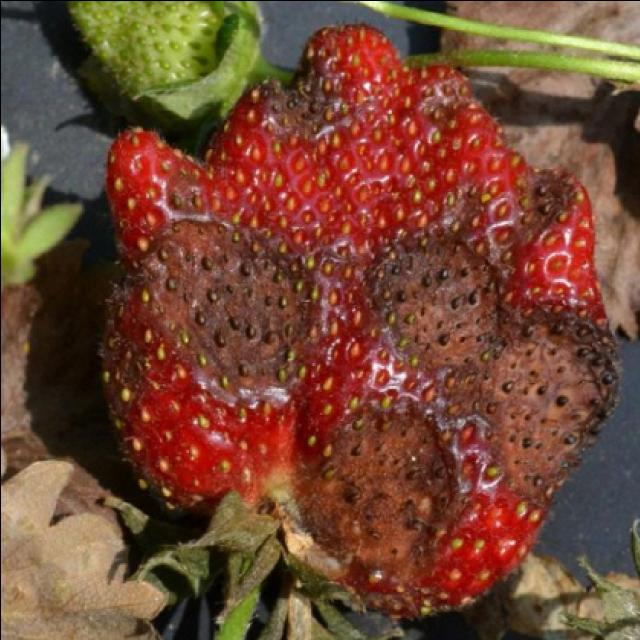Anthracnose Fruit Rot: (99, 34, 625, 619)
